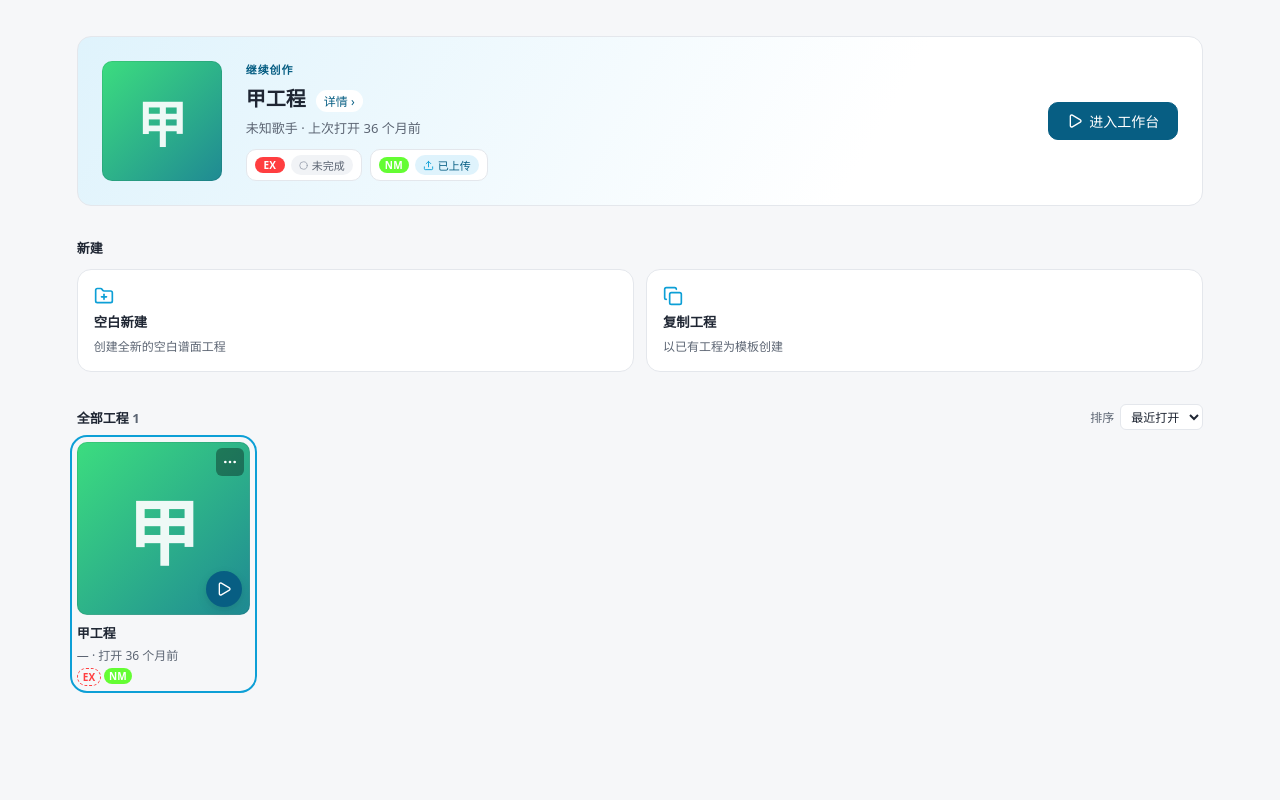
Test: issue 19 #2 · 难度+等级徽标就地编辑 › 等级输入回车提交并收起浮层
The width and height of the screenshot is (1280, 800).
Click the element showing "甲 甲工程 — · 打开 36 个月前 EX NM". click: {"x": 163, "y": 564}
box: [77,442,250,686]
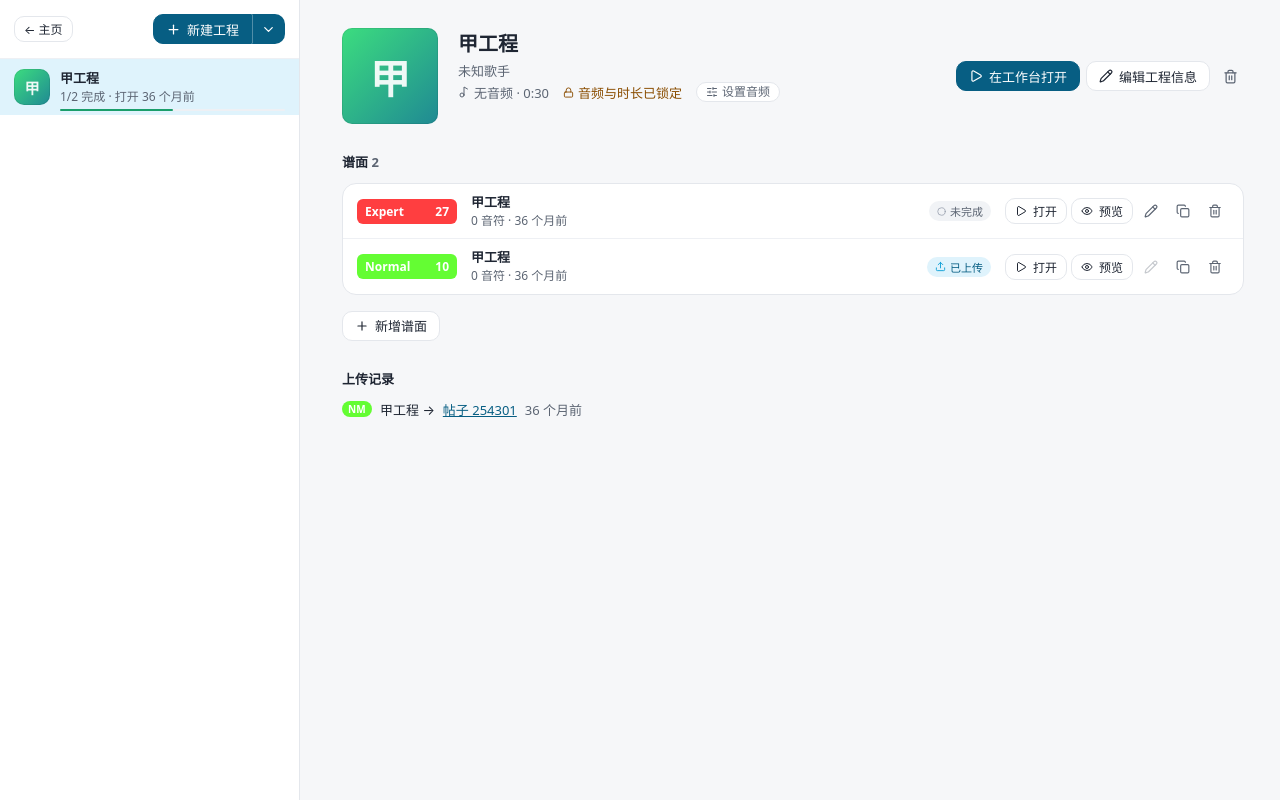
Expected: the heading "甲工程" is shown, [458,30,518,57]
Click the button titled "点击改难度 / 等级". click: {"x": 407, "y": 211}
box: [357,199,457,224]
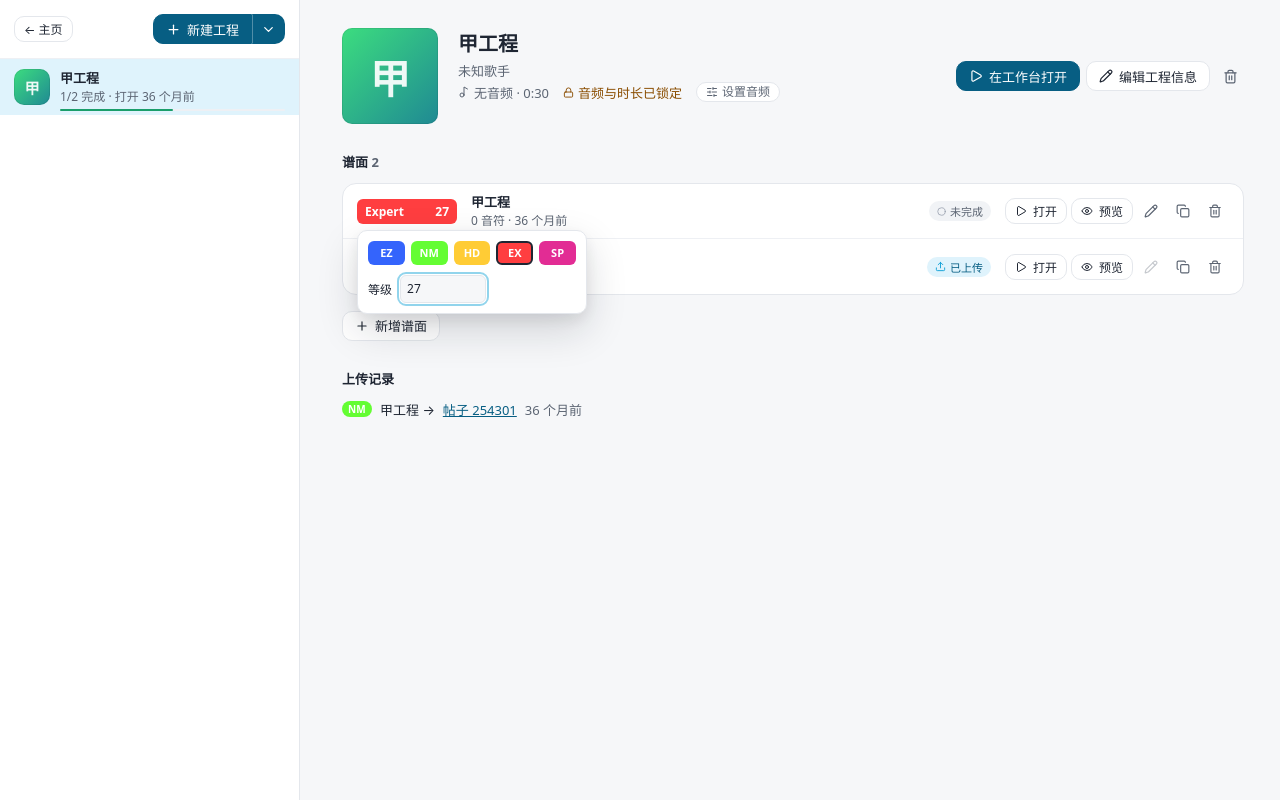
Replace the text in the field with "30". click: {"x": 443, "y": 289}
box: [400,275,486,303]
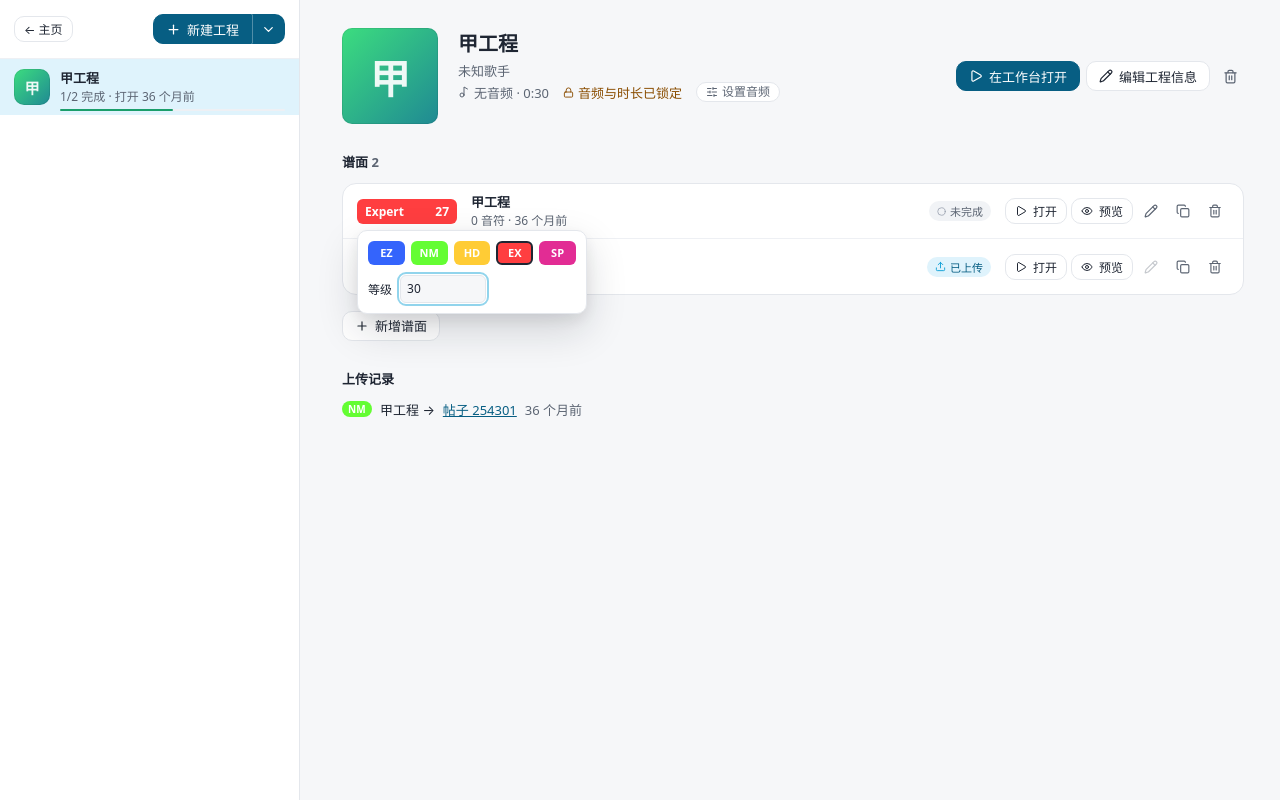
Press Enter in the field, box [400,275,486,303]
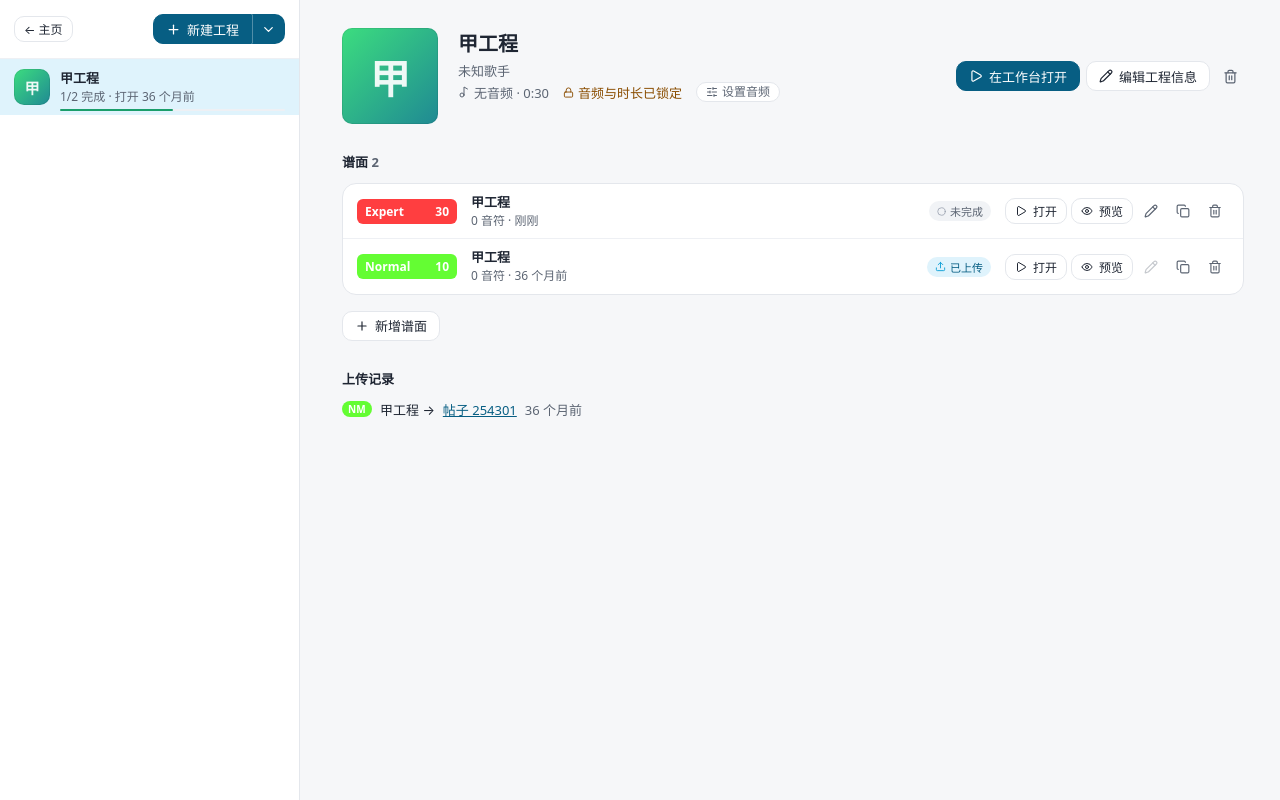
Expected: the dialog "点击改难度 / 等级" is gone
